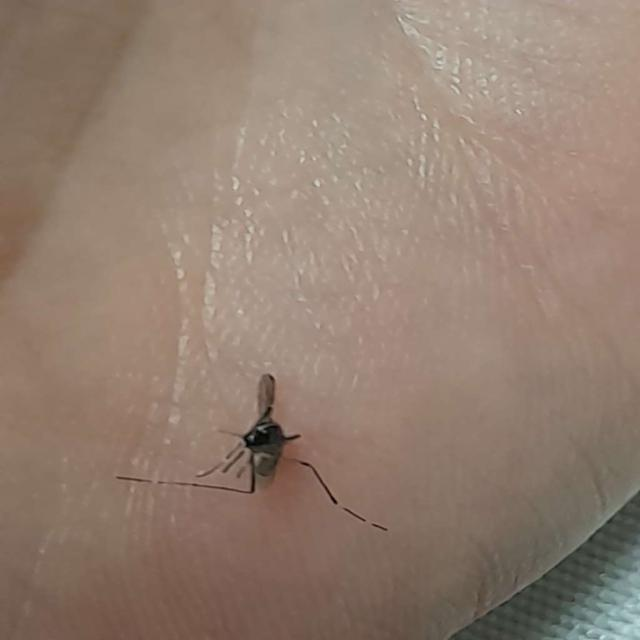albopictus: (115, 370, 403, 535)
